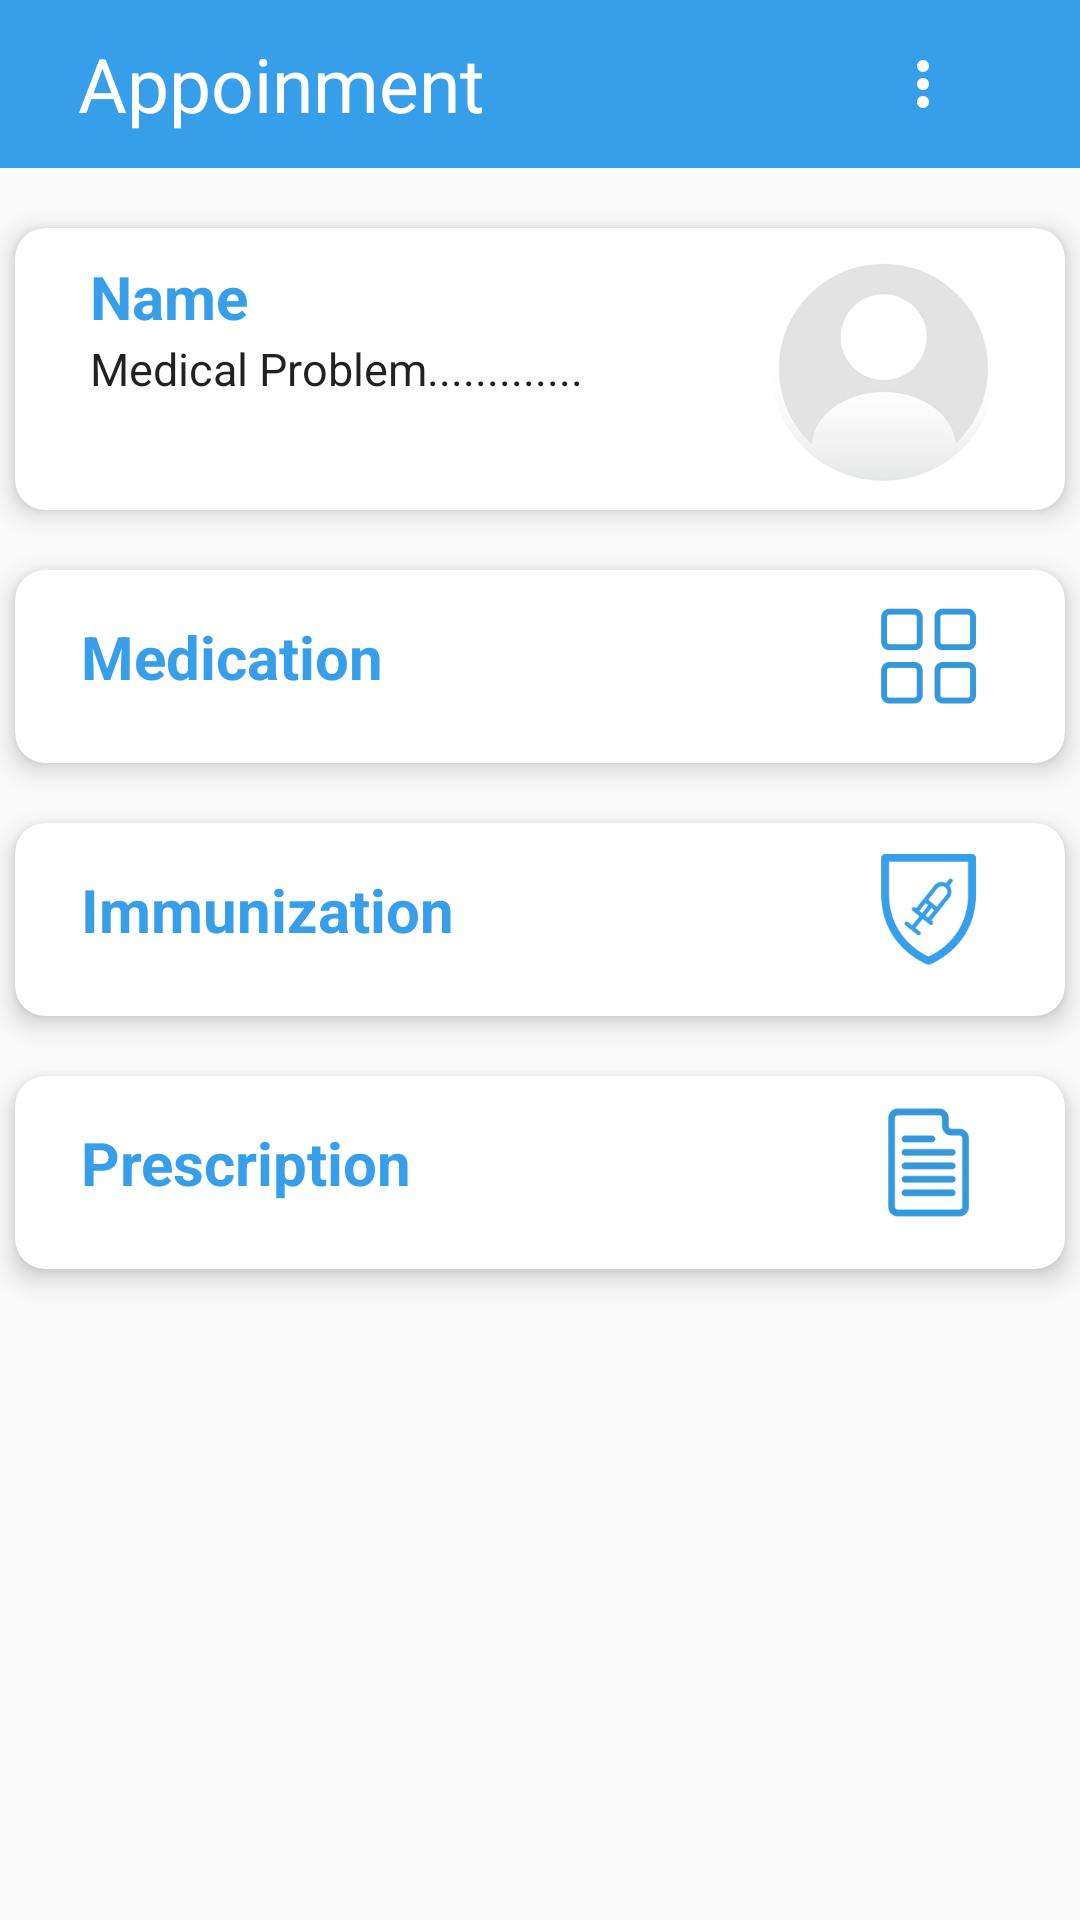

Where icons sit on this 1080w x 1920h app screen, as [x1=x1, y1=y1, x2=x2, y2=y2]:
description: [x1=888, y1=1108, x2=969, y2=1217]
immunsasi: [x1=881, y1=854, x2=976, y2=965]
more vert: [x1=917, y1=60, x2=929, y2=108]
